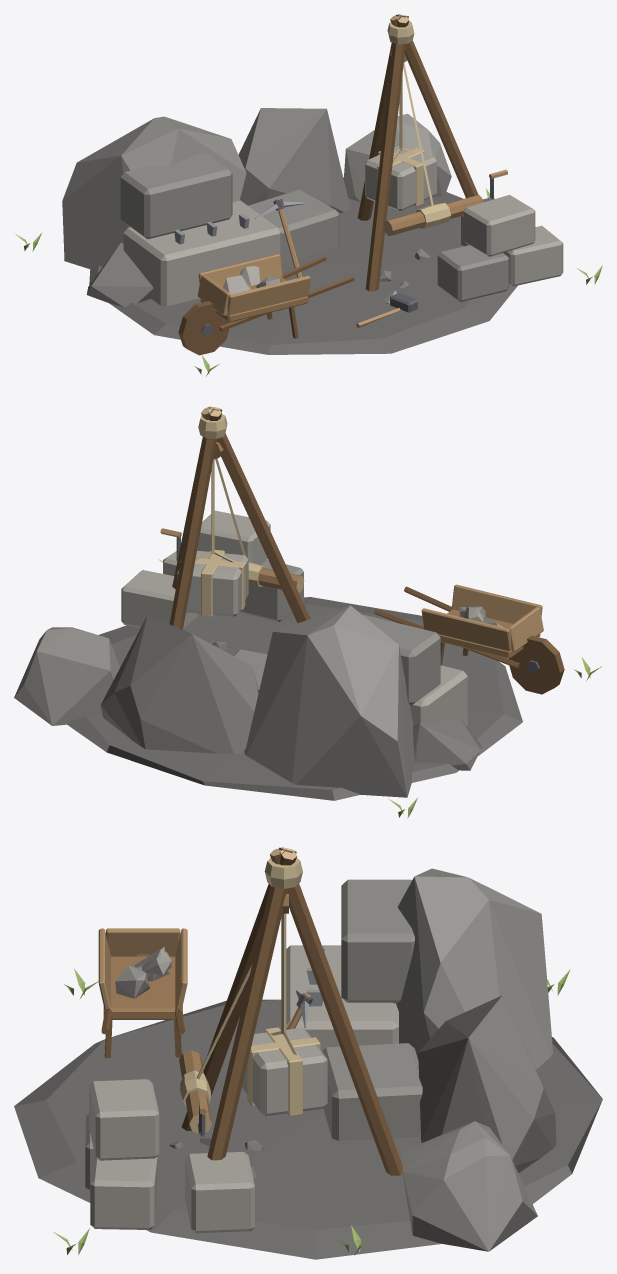
The model's file is quarry_2.glb.
3 renders of one model, top to bottom at view 1: azimuth 30°, elevation 25°; view 2: azimuth 150°, elevation 25°; view 3: azimuth 270°, elevation 25°, orthographic. The views are drawn at different scales.
Visible parts, largest first — view 1: Quarry; view 2: Quarry; view 3: Quarry.
Part boxes in pixels (x1=…): Quarry: x1=14, y1=14, x2=602, y2=376; Quarry: x1=14, y1=406, x2=601, y2=818; Quarry: x1=14, y1=847, x2=602, y2=1259.
Bounding box in the file's own units: 5.1 × 2.87 × 4.61.
